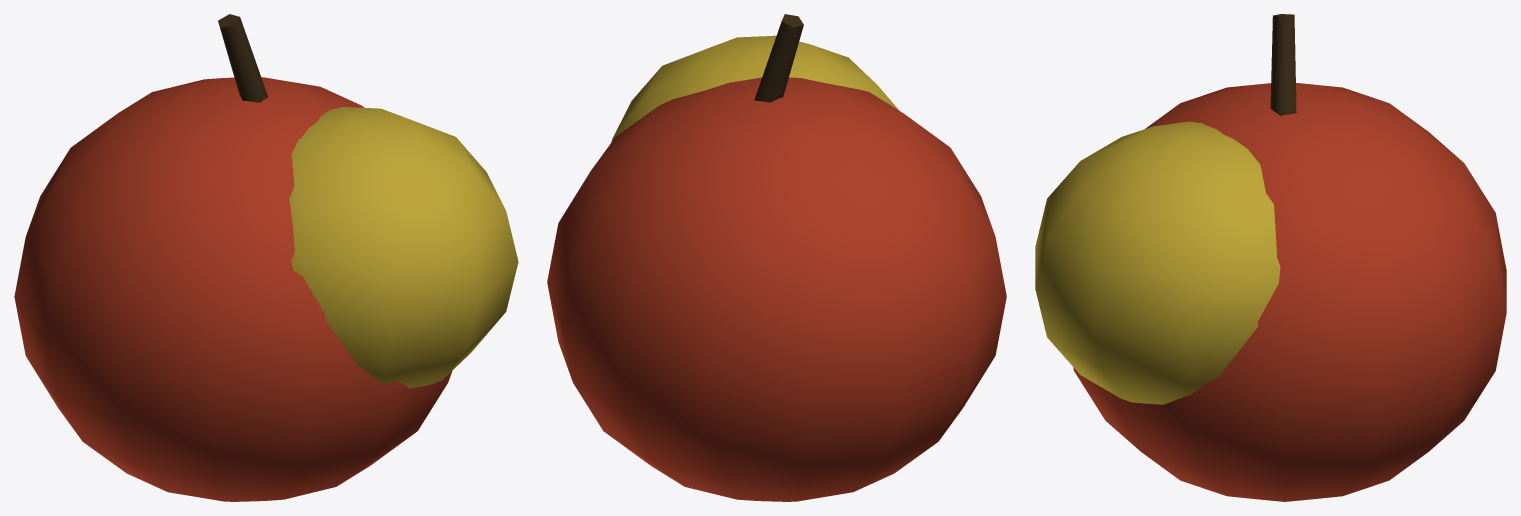
The model's file is prop_apple.glb.
The picture shows the model from 3 angles, left to right: view 1: azimuth 30°, elevation 25°; view 2: azimuth 150°, elevation 25°; view 3: azimuth 270°, elevation 25°; orthographic projection.
Parts seen in each view (by area): view 1: prop_apple; view 2: prop_apple; view 3: prop_apple.
Boxes of the visible parts, x1,y1,x2,y2 form: prop_apple: (14,14,518,501); prop_apple: (547,14,1006,501); prop_apple: (1035,14,1506,501).
Size of the model in its own units: 0.077 by 0.0851 by 0.0787.
